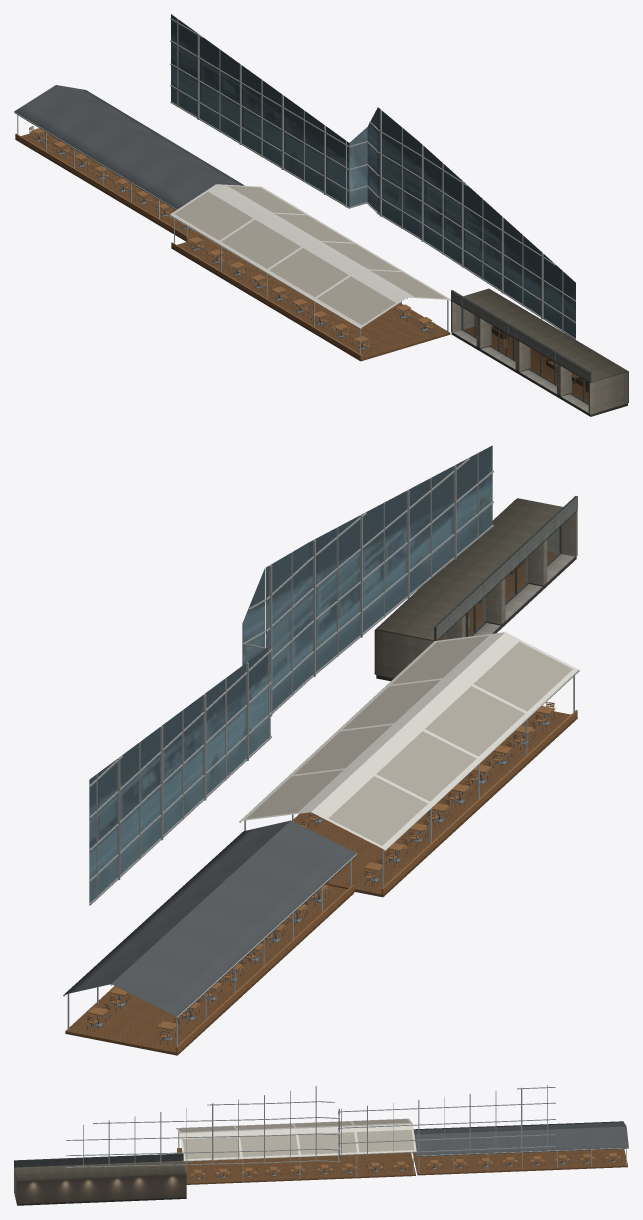
3 renders of one model, top to bottom at view 1: azimuth 30°, elevation 25°; view 2: azimuth 150°, elevation 25°; view 3: azimuth 270°, elevation 25°, orthographic. The views are drawn at different scales.
Visible parts, largest first — view 1: One Fullerton laminated glazing, Roof infill, Charcoal, Recessed shop cladding, Deck, Anodised glazing bars, Pale roof trim, Teak, Courtyard entrance glass, Metal, Interior timber joinery, Canopy frame (+1 smaller); view 2: One Fullerton laminated glazing, Charcoal, Roof infill, Recessed shop cladding, Deck, Anodised glazing bars, Pale roof trim, Teak, Metal, Canopy frame, Courtyard entrance glass, Interior timber joinery; view 3: Deck, Charcoal, Roof infill, Anodised glazing bars, Recessed shop cladding, Wall washed plaster, Pale roof trim, Teak, Metal, Canopy frame.
Boxes of the visible parts, left/top/right/bottom form: One Fullerton laminated glazing: left=171, top=14, right=575, bottom=338; Roof infill: left=174, top=185, right=447, bottom=324; Charcoal: left=14, top=85, right=244, bottom=210; Recessed shop cladding: left=451, top=288, right=627, bottom=416; Deck: left=15, top=132, right=450, bottom=361; Anodised glazing bars: left=170, top=18, right=575, bottom=339; Pale roof trim: left=169, top=184, right=450, bottom=328; Teak: left=15, top=126, right=433, bottom=359; Courtyard entrance glass: left=463, top=308, right=587, bottom=402; Metal: left=29, top=128, right=434, bottom=352; Interior timber joinery: left=464, top=325, right=627, bottom=411; Canopy frame: left=14, top=111, right=448, bottom=354; One Fullerton laminated glazing: left=89, top=445, right=492, bottom=903; Charcoal: left=63, top=820, right=356, bottom=1018; Roof infill: left=246, top=635, right=572, bottom=845; Recessed shop cladding: left=376, top=496, right=577, bottom=681; Deck: left=65, top=711, right=577, bottom=1055; Anodised glazing bars: left=89, top=453, right=493, bottom=905; Pale roof trim: left=239, top=632, right=579, bottom=851; Teak: left=87, top=702, right=577, bottom=1052; Metal: left=86, top=702, right=554, bottom=1044; Canopy frame: left=63, top=676, right=574, bottom=1046; Courtyard entrance glass: left=439, top=528, right=559, bottom=639; Interior timber joinery: left=376, top=551, right=558, bottom=678; Deck: left=177, top=1149, right=627, bottom=1184; Charcoal: left=413, top=1121, right=628, bottom=1156; Roof infill: left=178, top=1119, right=414, bottom=1159; Anodised glazing bars: left=66, top=1085, right=555, bottom=1167; Recessed shop cladding: left=14, top=1153, right=186, bottom=1205; Wall washed plaster: left=17, top=1174, right=186, bottom=1204; Pale roof trim: left=176, top=1118, right=416, bottom=1161; Teak: left=177, top=1148, right=621, bottom=1175; Metal: left=189, top=1155, right=621, bottom=1179; Canopy frame: left=178, top=1132, right=628, bottom=1180.
Bounding box in the file's own units: 15.68 × 12.06 × 62.42.
Materials: 15 (7 with a texture image).
